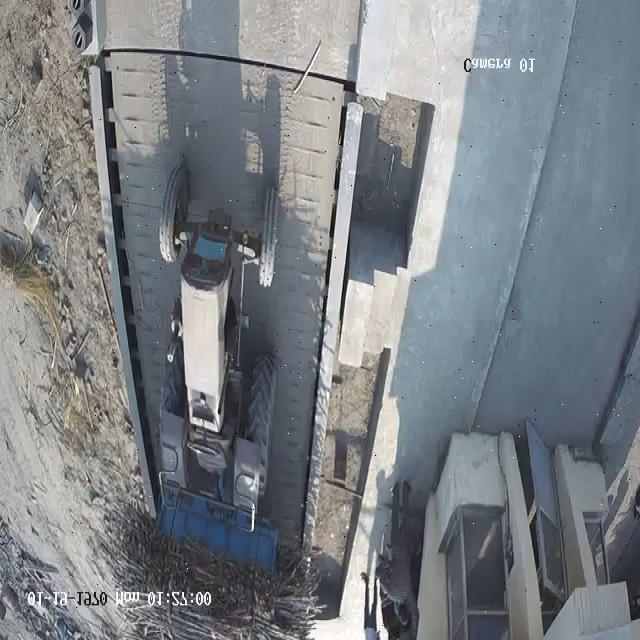Tratores - v5 YOLO V8L 2024-11-13: (154, 164, 279, 506)
